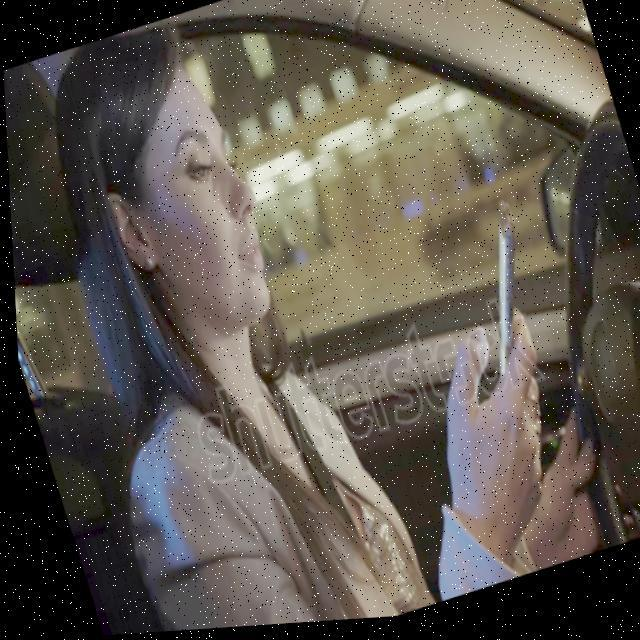PhoneCall: (450, 199, 566, 410)
